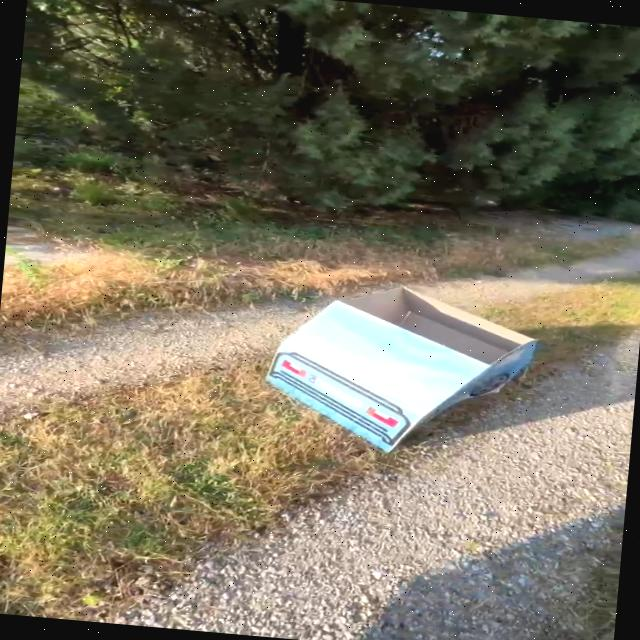blue_car: (207, 253, 570, 486)
